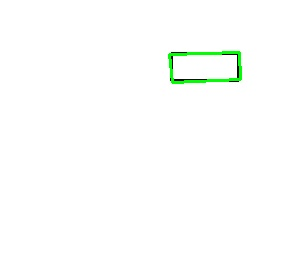line_segment: (169, 51, 241, 83)
